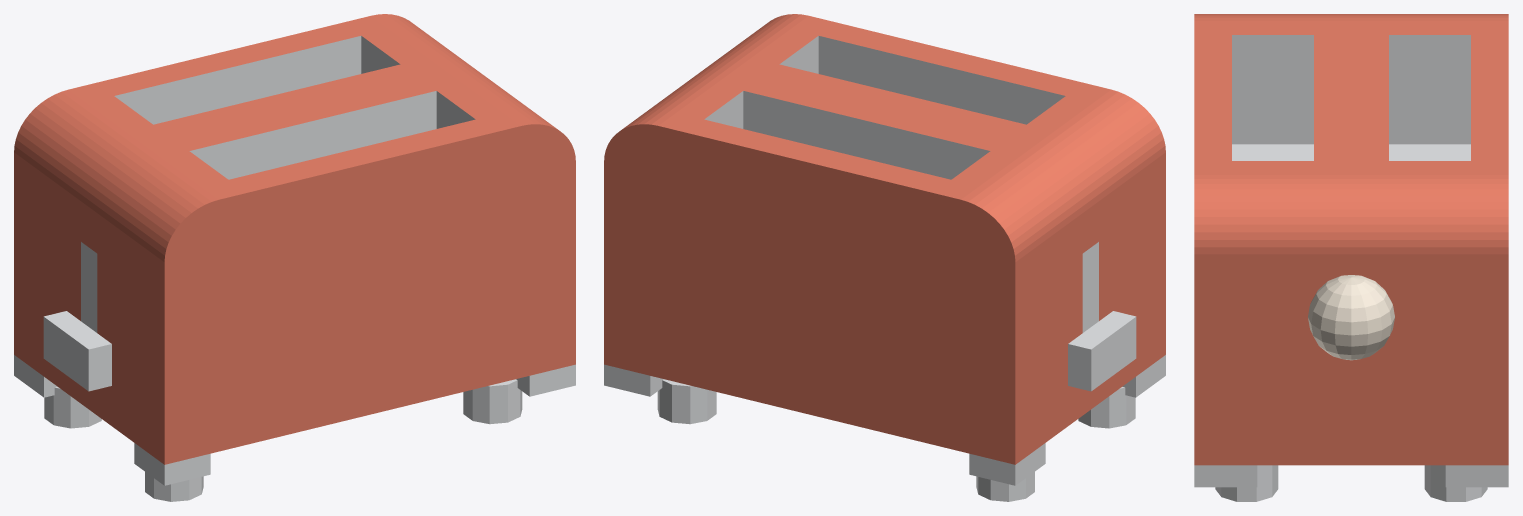
The model's file is toaster_b.glb.
3 renders of one model, left to right at view 1: azimuth 30°, elevation 25°; view 2: azimuth 150°, elevation 25°; view 3: azimuth 270°, elevation 25°, orthographic. The views are drawn at different scales.
Parts seen in each view (by area): view 1: body; view 2: body; view 3: body.
Part boxes in pixels (x1,y1,x2,y2): body: (14, 14, 575, 501); body: (604, 14, 1165, 501); body: (1194, 14, 1508, 501).
Size of the model in its own units: 0.33 by 0.2 by 0.18.
